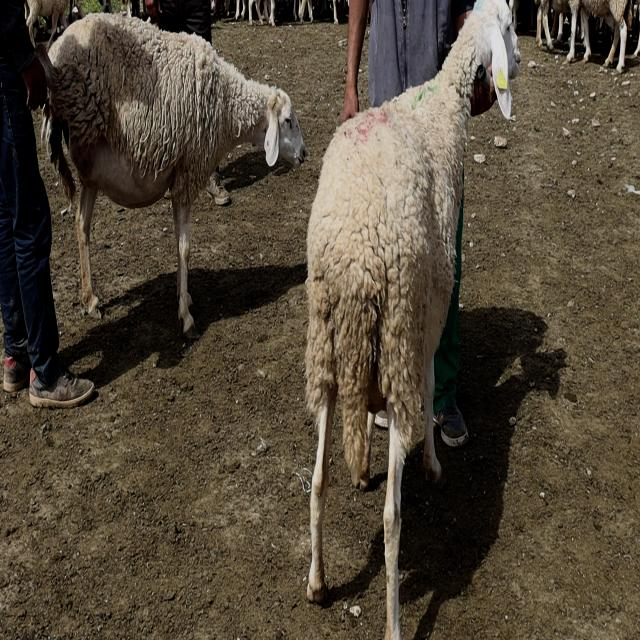Score_3: (305, 0, 517, 639)
